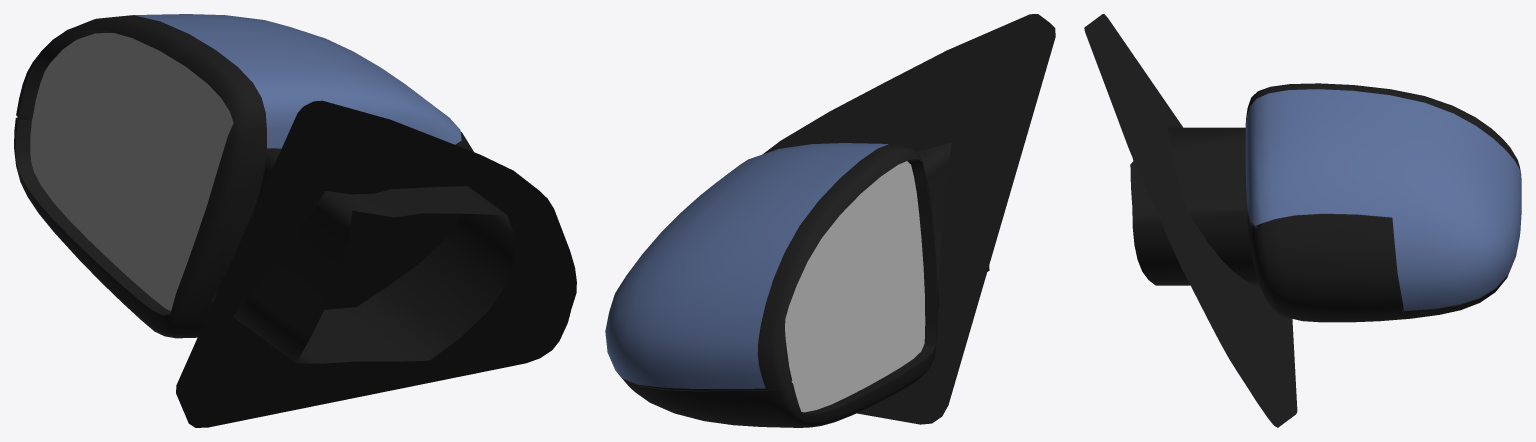
The picture shows the model from 3 angles, left to right: view 1: azimuth 30°, elevation 25°; view 2: azimuth 150°, elevation 25°; view 3: azimuth 270°, elevation 25°; orthographic projection. The views are drawn at different scales.
Parts seen in each view (by area): view 1: U236_17_261I_L_U236_17_261I_L_4_D, U236_17_261I_L_U236_17_261I_L_5_DTaSI, U236_17_261I_L_U236_17_261I_L_3_D, U236_17_261I_L_U236_17_261I_L_1_DaS, U236_17_261I_L_U236_17_261I_L_2_D, U236_17_261I_L_6_D_U236_17_261I_L; view 2: U236_17_261I_L_U236_17_261I_L_4_D, U236_17_261I_L_U236_17_261I_L_1_DaS, U236_17_261I_L_U236_17_261I_L_5_DTaSI, U236_17_261I_L_U236_17_261I_L_2_D, U236_17_261I_L_6_D_U236_17_261I_L, U236_17_261I_L_U236_17_261I_L_3_D; view 3: U236_17_261I_L_U236_17_261I_L_1_DaS, U236_17_261I_L_U236_17_261I_L_4_D, U236_17_261I_L_U236_17_261I_L_2_D, U236_17_261I_L_U236_17_261I_L_3_D, U236_17_261I_L_6_D_U236_17_261I_L.
Part boxes in pixels (<box>): U236_17_261I_L_U236_17_261I_L_4_D: <box>176,100,576,427</box>; U236_17_261I_L_U236_17_261I_L_5_DTaSI: <box>30,33,233,310</box>; U236_17_261I_L_U236_17_261I_L_3_D: <box>211,148,514,363</box>; U236_17_261I_L_U236_17_261I_L_1_DaS: <box>133,14,461,148</box>; U236_17_261I_L_U236_17_261I_L_2_D: <box>14,117,473,338</box>; U236_17_261I_L_6_D_U236_17_261I_L: <box>16,15,266,148</box>; U236_17_261I_L_U236_17_261I_L_4_D: <box>762,14,1055,424</box>; U236_17_261I_L_U236_17_261I_L_1_DaS: <box>605,143,888,388</box>; U236_17_261I_L_U236_17_261I_L_5_DTaSI: <box>785,161,925,412</box>; U236_17_261I_L_U236_17_261I_L_2_D: <box>618,175,937,427</box>; U236_17_261I_L_6_D_U236_17_261I_L: <box>757,144,926,389</box>; U236_17_261I_L_U236_17_261I_L_3_D: <box>915,142,989,307</box>; U236_17_261I_L_U236_17_261I_L_1_DaS: <box>1245,89,1521,310</box>; U236_17_261I_L_U236_17_261I_L_4_D: <box>1084,14,1297,427</box>; U236_17_261I_L_U236_17_261I_L_2_D: <box>1247,210,1509,322</box>; U236_17_261I_L_U236_17_261I_L_3_D: <box>1130,127,1259,285</box>; U236_17_261I_L_6_D_U236_17_261I_L: <box>1245,83,1521,174</box>.
Bounding box in the file's own units: 21.52 × 23.77 × 31.61.
